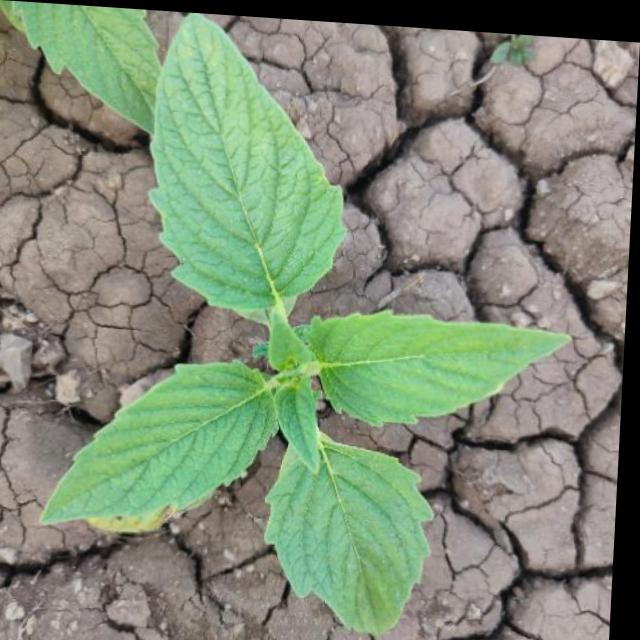crop: (28, 15, 605, 635)
